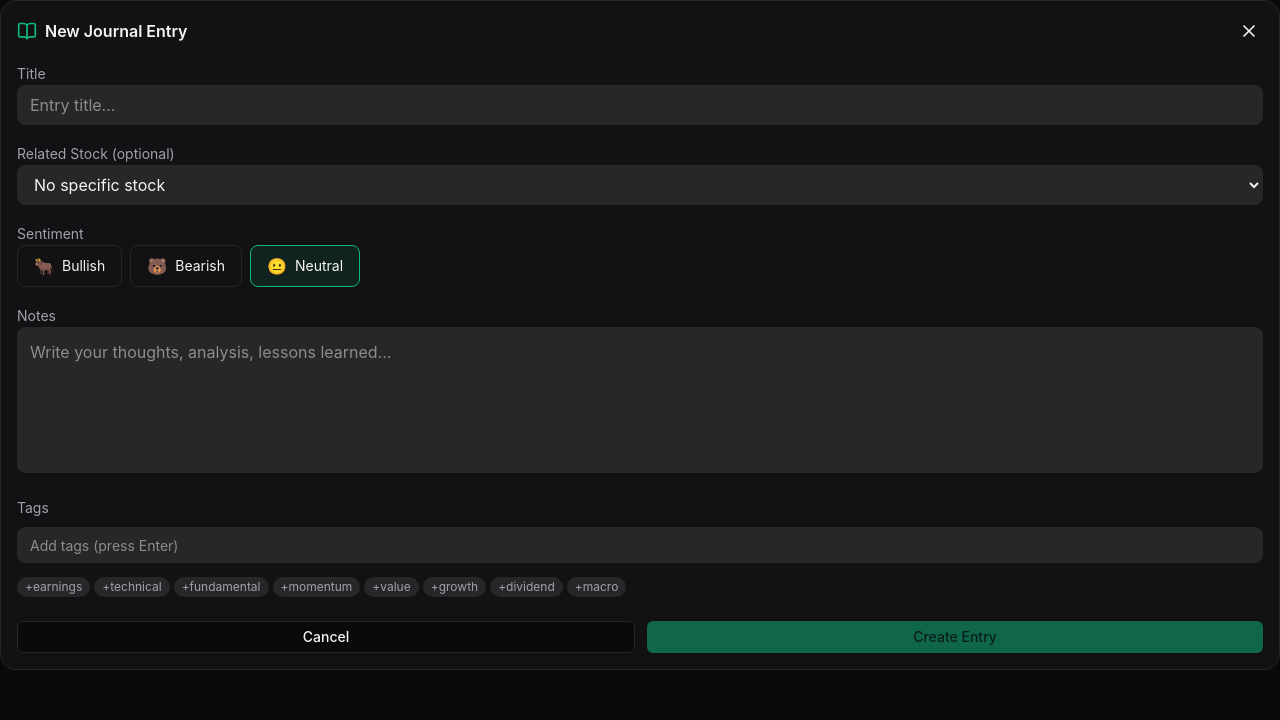
TradeJournalForm › adds tag when pressing Enter in tag input
The image size is (1280, 720).
Type "newtag" into the field with placeholder "Add tags (press Enter)" at coordinates (640, 545), box [17,527,1263,563]
Then press Enter
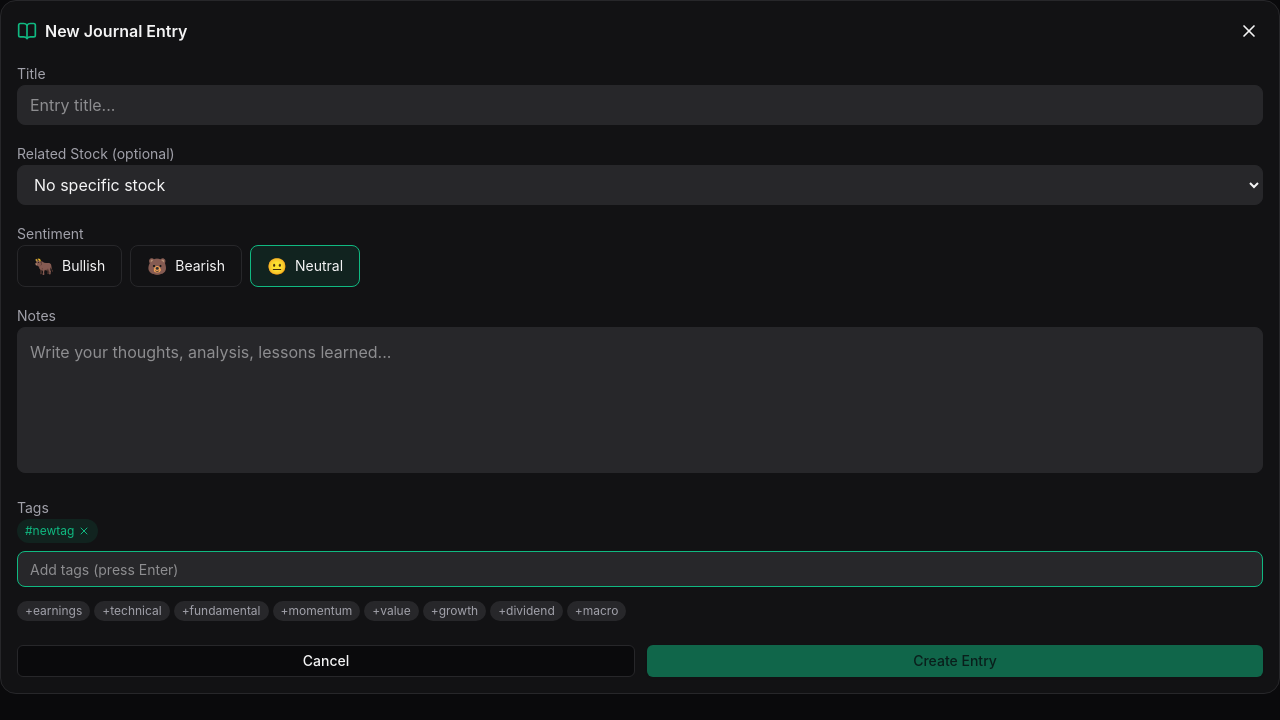
Expected: the text "#newtag" is shown, [17,519,98,543]
